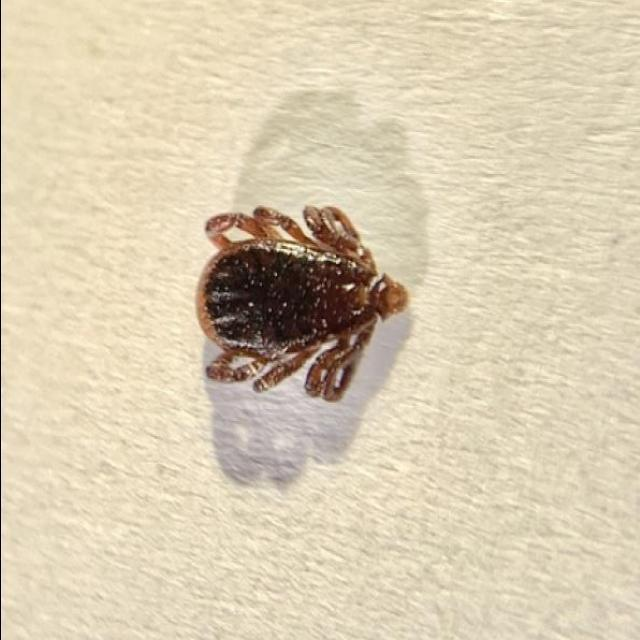Rhipicephalus Sanguineus-M: (191, 204, 407, 404)
